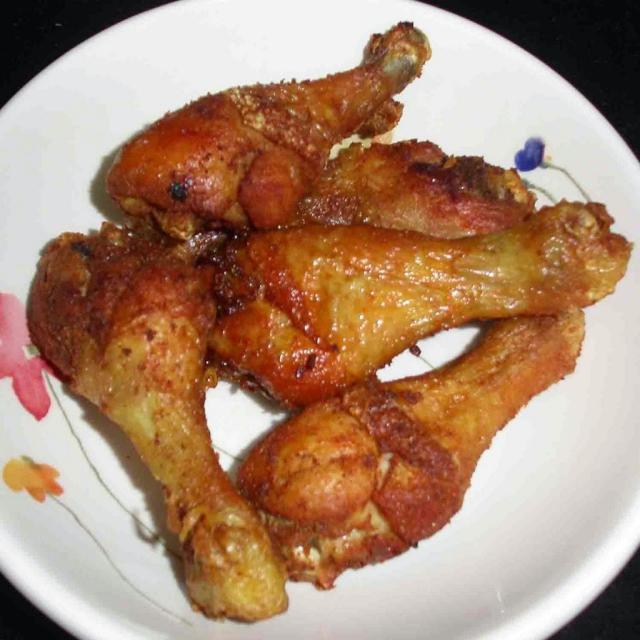Wet: (22, 237, 271, 607), (288, 308, 585, 576), (207, 198, 626, 380), (95, 21, 424, 234)
